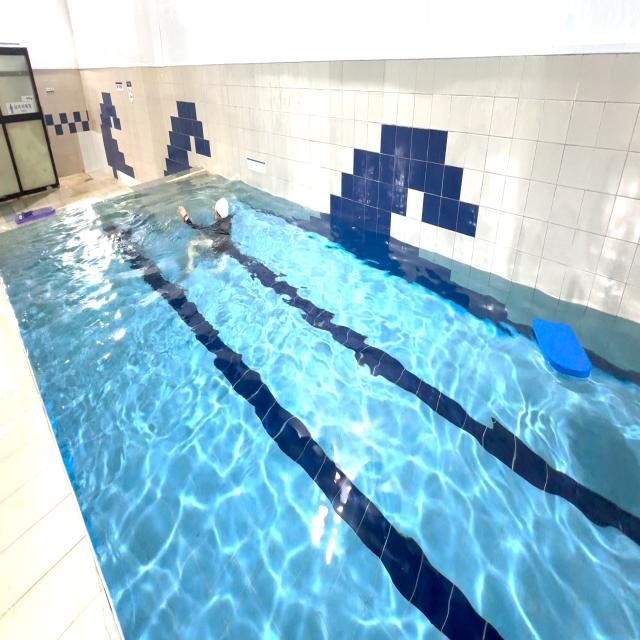Drowning: (166, 181, 252, 295)
